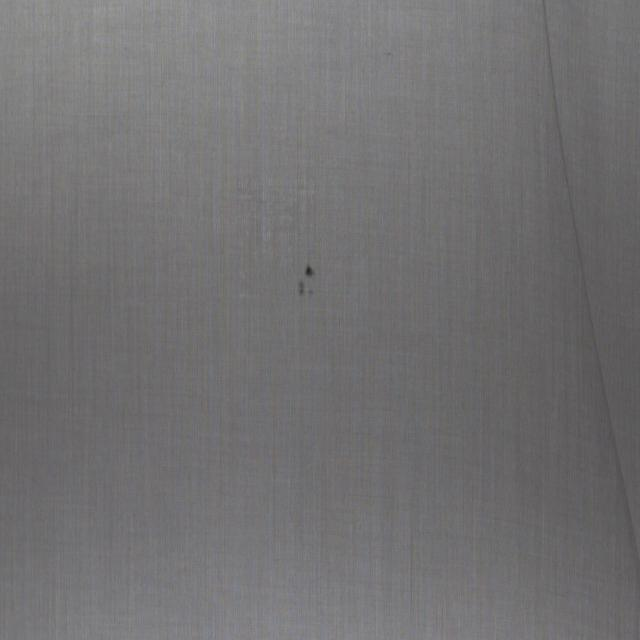dirty: (299, 266, 315, 306)
